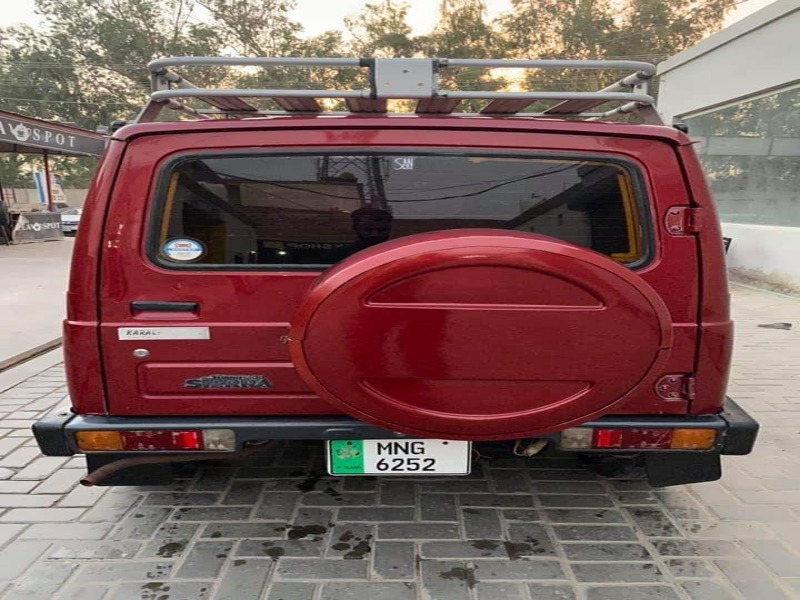License Plate: (322, 434, 478, 481)
